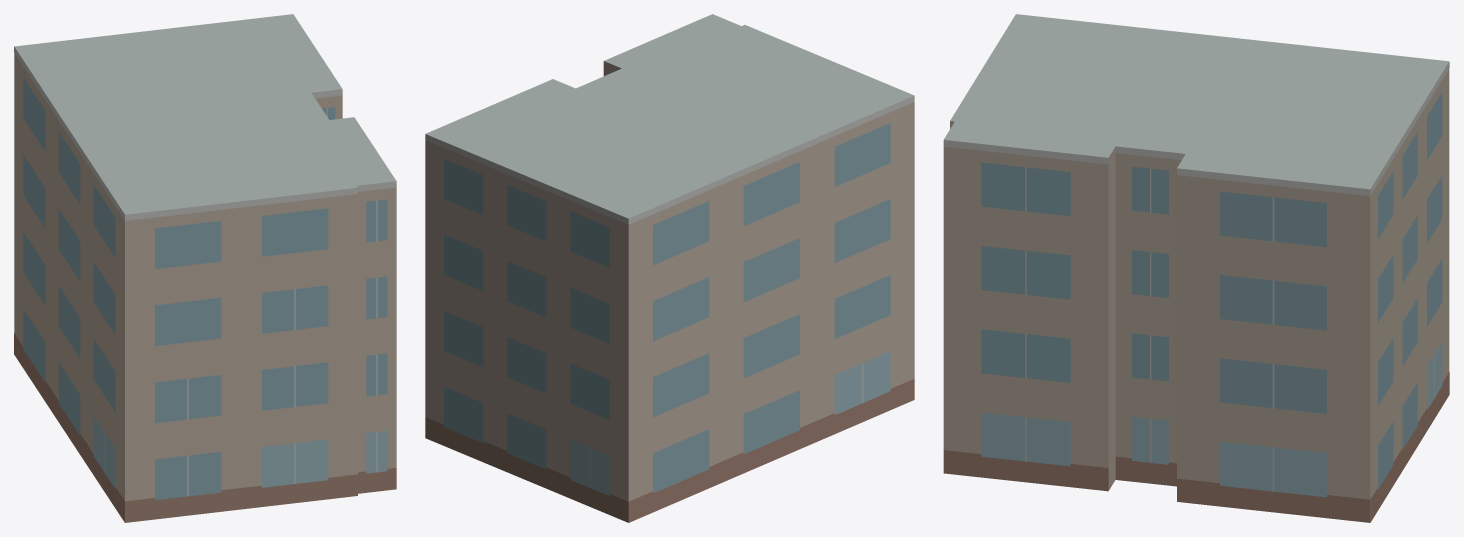
File: survey-upis-32820856.glb
3 renders of one model, left to right at view 1: azimuth 30°, elevation 25°; view 2: azimuth 150°, elevation 25°; view 3: azimuth 270°, elevation 25°, orthographic. The views are drawn at different scales.
Parts seen in each view (by area): view 1: survey-upis-32820856.tmp; view 2: survey-upis-32820856.tmp; view 3: survey-upis-32820856.tmp.
Part boxes in pixels (left/top/right/bottom): survey-upis-32820856.tmp: left=14, top=14, right=396, bottom=522; survey-upis-32820856.tmp: left=425, top=14, right=914, bottom=522; survey-upis-32820856.tmp: left=943, top=14, right=1449, bottom=522.
Size of the model in its own units: 13.66 by 12.1 by 16.65.
